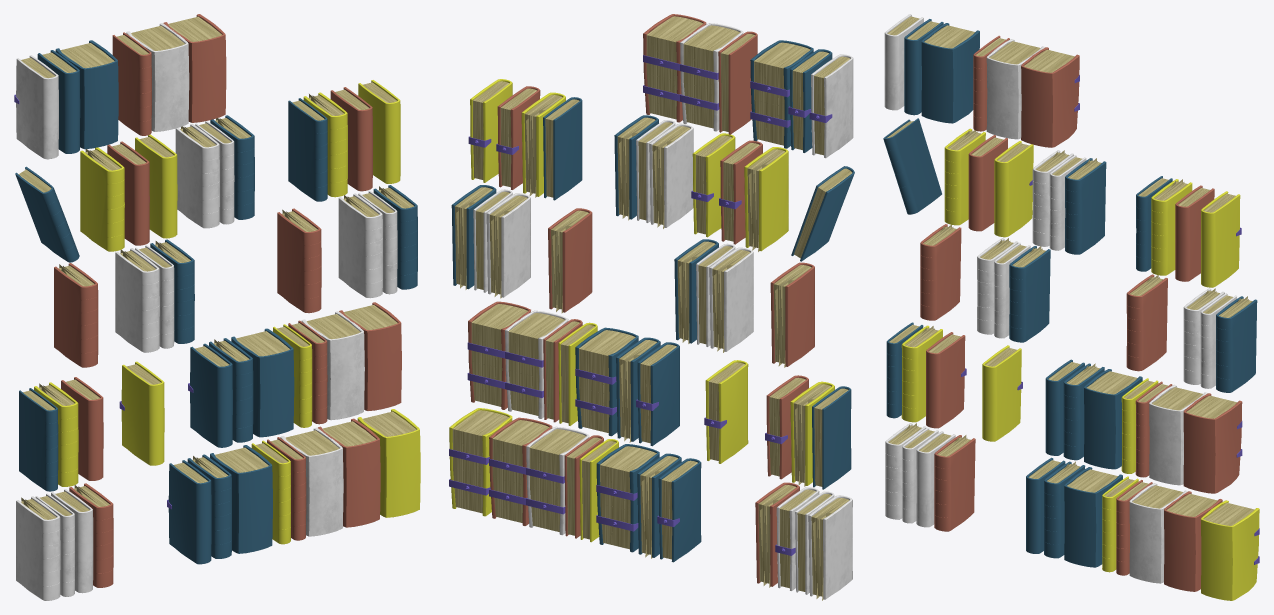
The model's file is BookShelf_Small_Thin_Books_01.FBX.
The picture shows the model from 3 angles, left to right: view 1: azimuth 30°, elevation 25°; view 2: azimuth 150°, elevation 25°; view 3: azimuth 330°, elevation 25°; orthographic projection. The views are drawn at different scales.
Visible parts, largest first — view 1: BookShelf_Small_Thin_Books_01; view 2: BookShelf_Small_Thin_Books_01; view 3: BookShelf_Small_Thin_Books_01.
Boxes of the visible parts, <box> form: BookShelf_Small_Thin_Books_01: <box>14,14,420,600</box>; BookShelf_Small_Thin_Books_01: <box>449,14,854,600</box>; BookShelf_Small_Thin_Books_01: <box>883,14,1259,600</box>.
Size of the model in its own units: 1.8 by 2.37 by 0.2618.
Materials: 6 (2 with a texture image).
